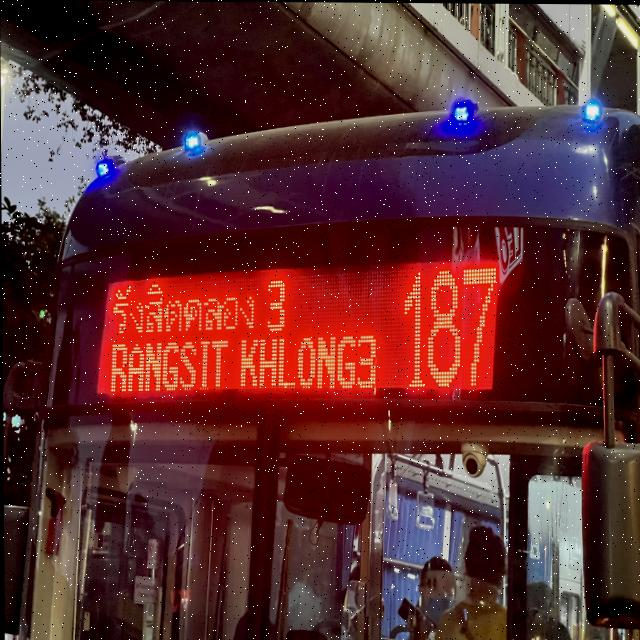Bus-Line-Number: (395, 248, 500, 391)
Destination-Sign-Normal: (98, 274, 389, 390)
TSB-Bus: (0, 77, 640, 640)
